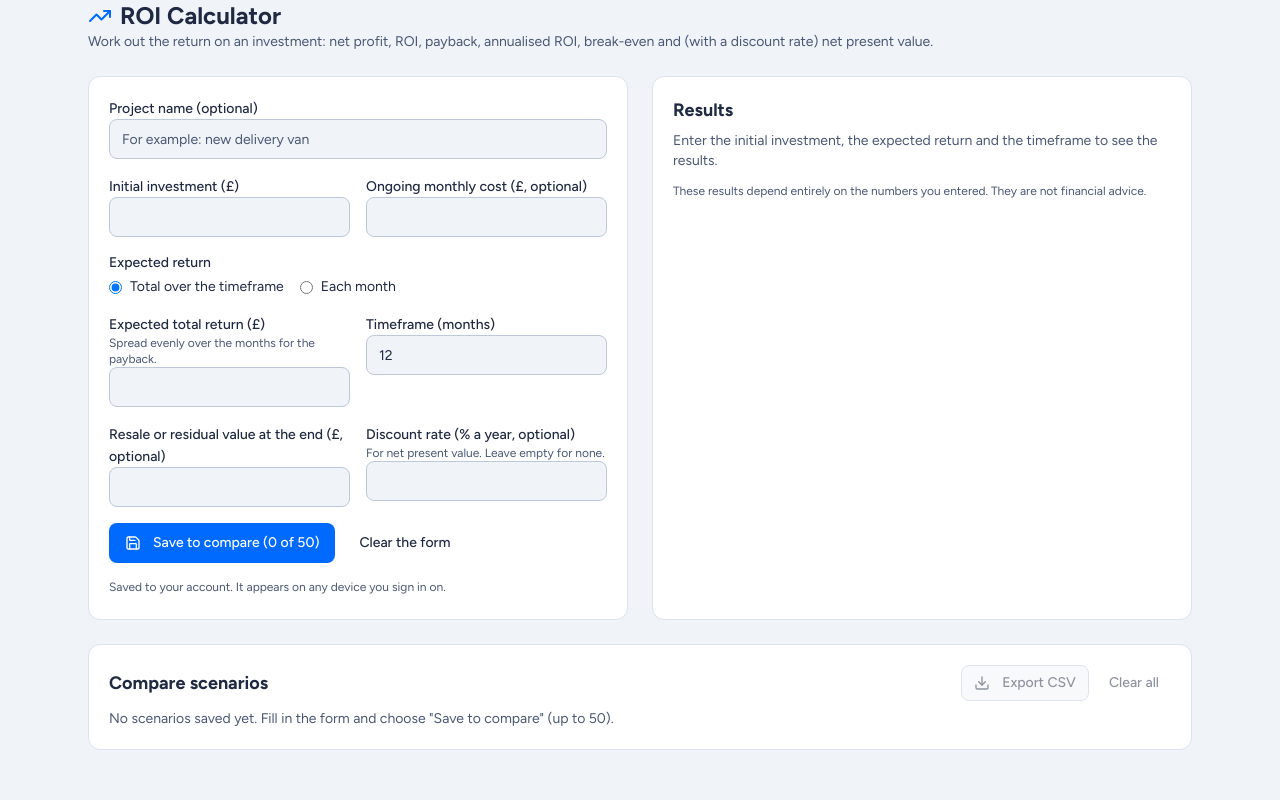
Test case: signed in after the trial (the free tier): saved to the account › ROI: a trial-ended account saves scenarios to its account, sees them compared, and the save is announced
Expected: the text "Saved to your account" is shown, x1=109 y1=580 x2=446 y2=594
Type "Van" into the field labelled "Project name (optional)". click: (358, 139)
box: x1=109 y1=119 x2=607 y2=159
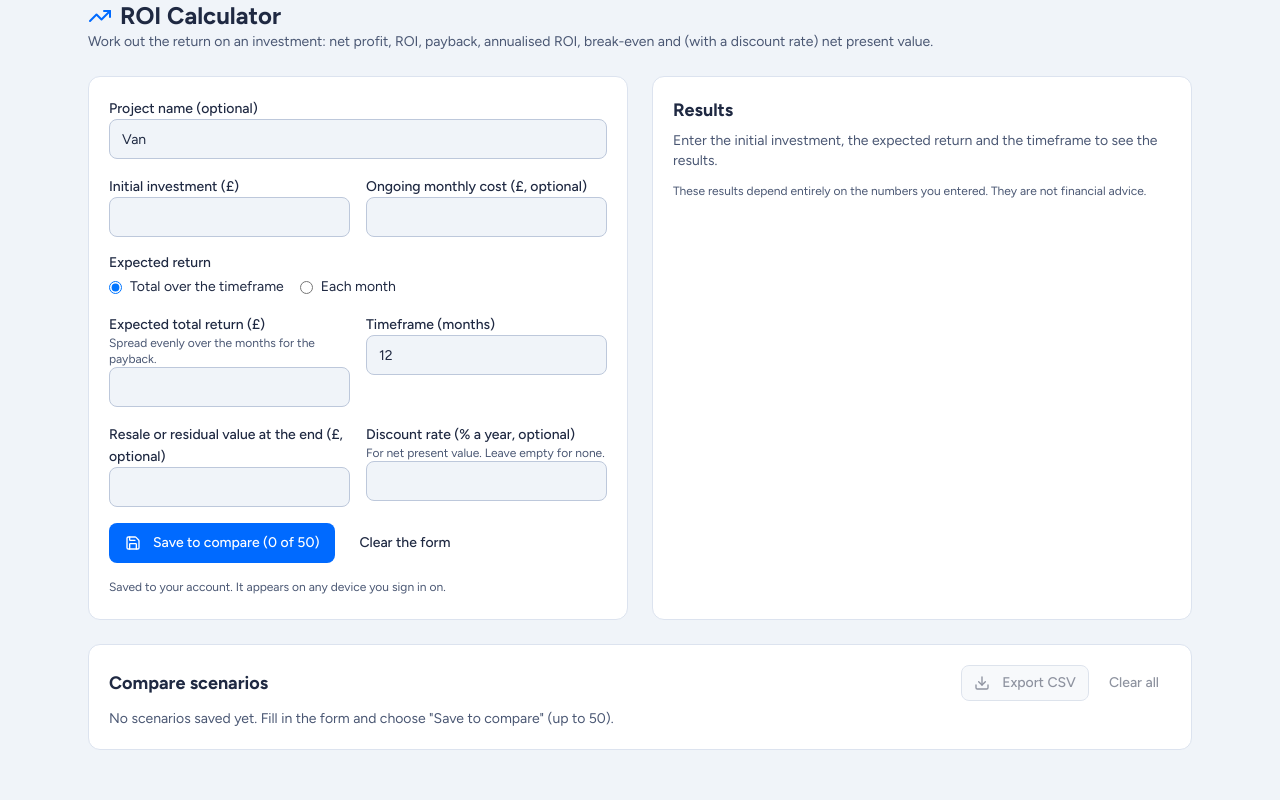
Type "5000" into the field labelled "Initial investment (£)". click: (230, 217)
box: x1=109 y1=197 x2=350 y2=237
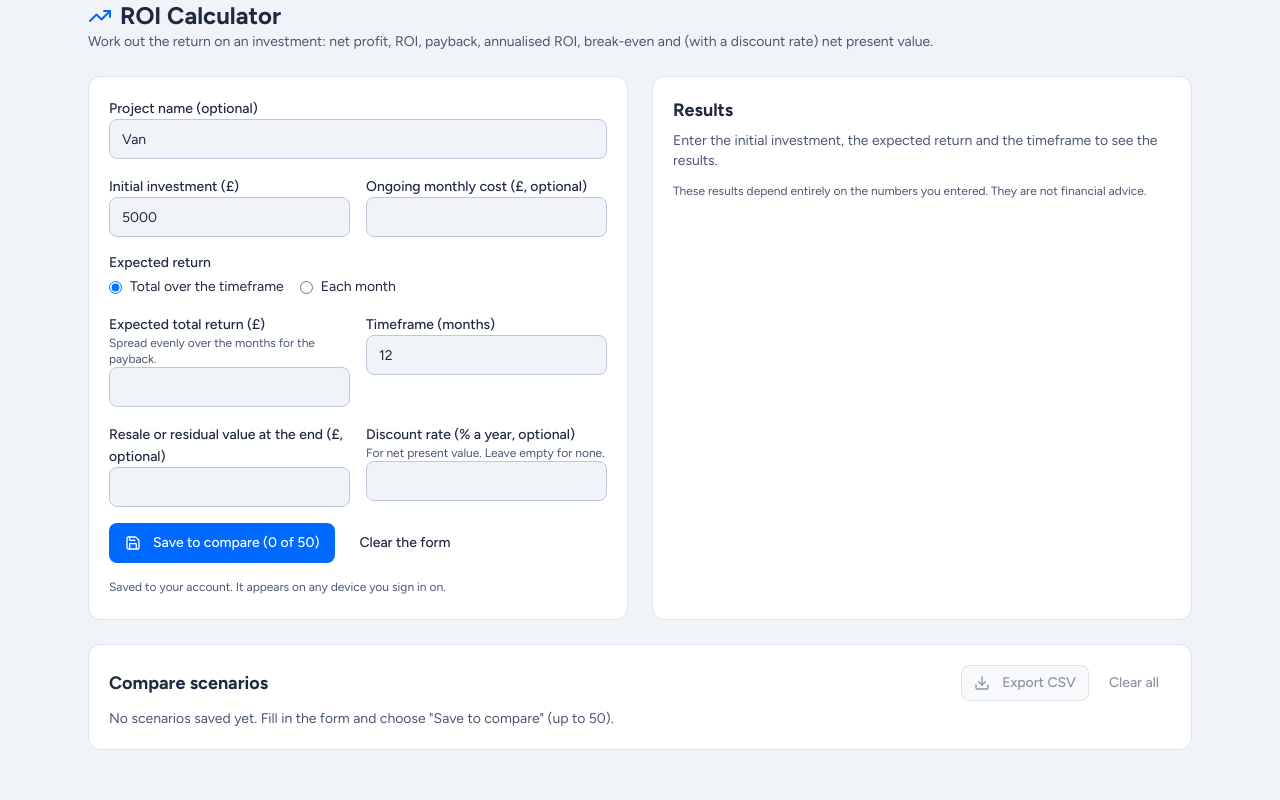
Type "6000" into the field labelled "Expected total return (£)". click: (230, 387)
box: x1=109 y1=367 x2=350 y2=407
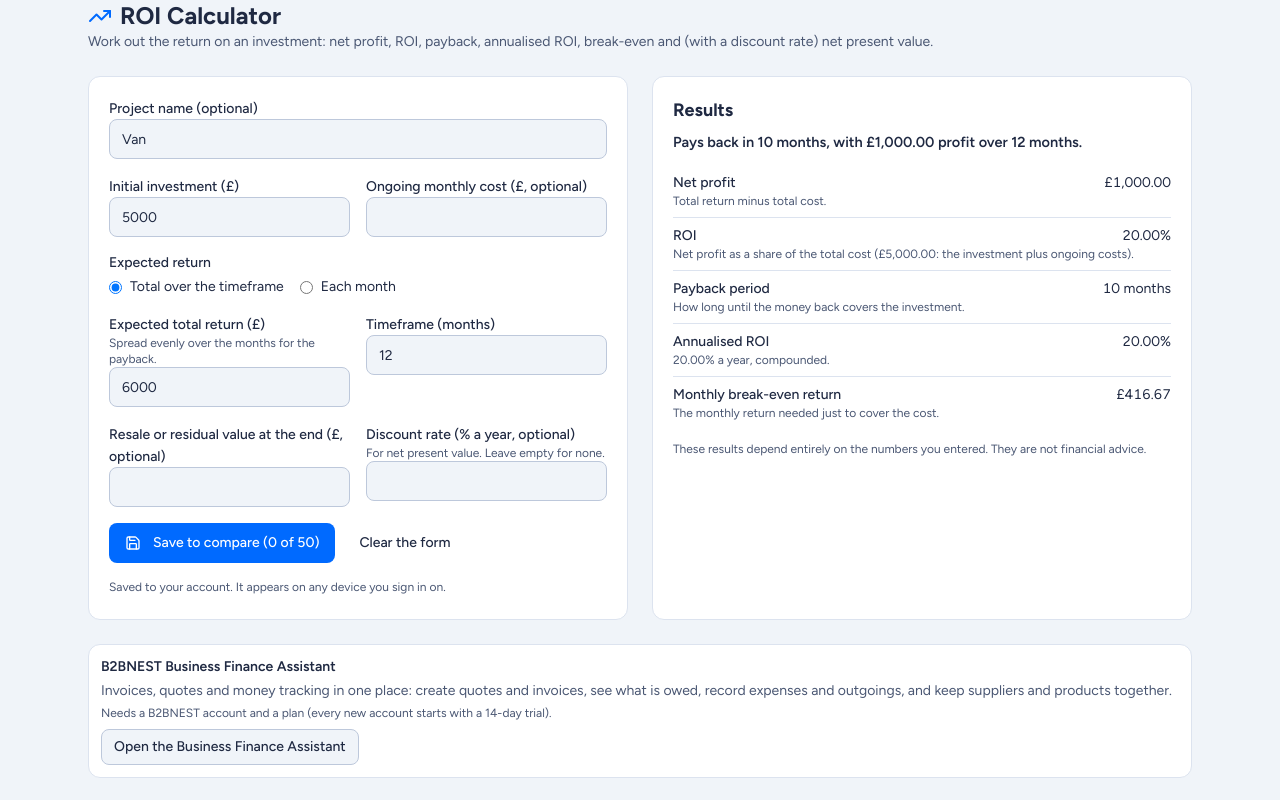
Submit the form named "ROI inputs", box x1=88 y1=76 x2=628 y2=620
(page scrolled)
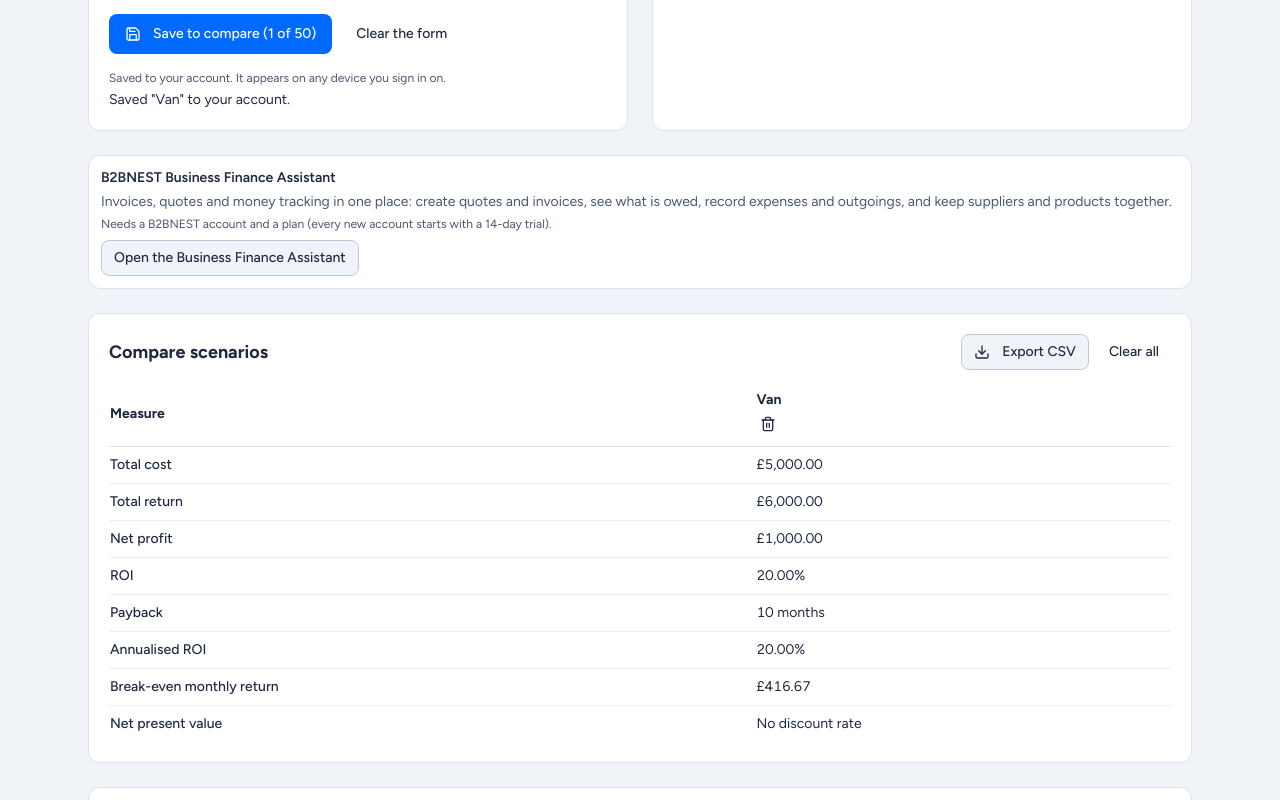
Now the text "Saved \"Van\" to your account." is shown, box x1=109 y1=91 x2=290 y2=108
Now the text "Van" is shown, box x1=756 y1=391 x2=781 y2=408
